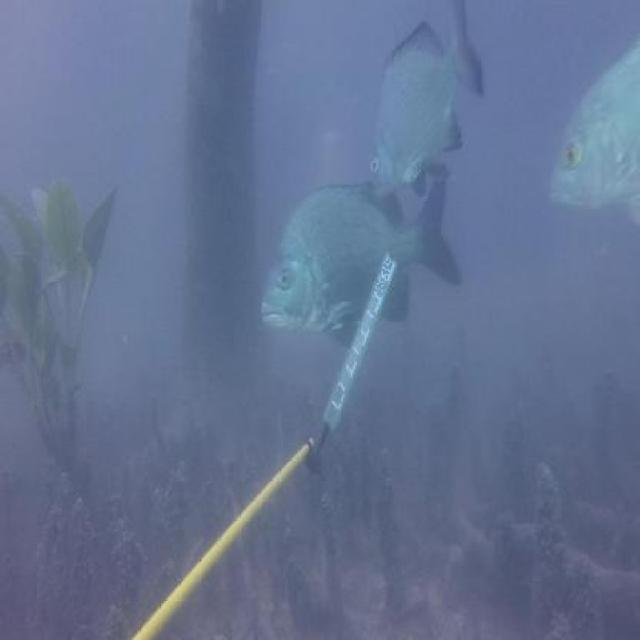Caranx: (544, 35, 640, 235)
acanthopagrus_palmaris: (257, 172, 463, 352), (366, 1, 491, 199)
